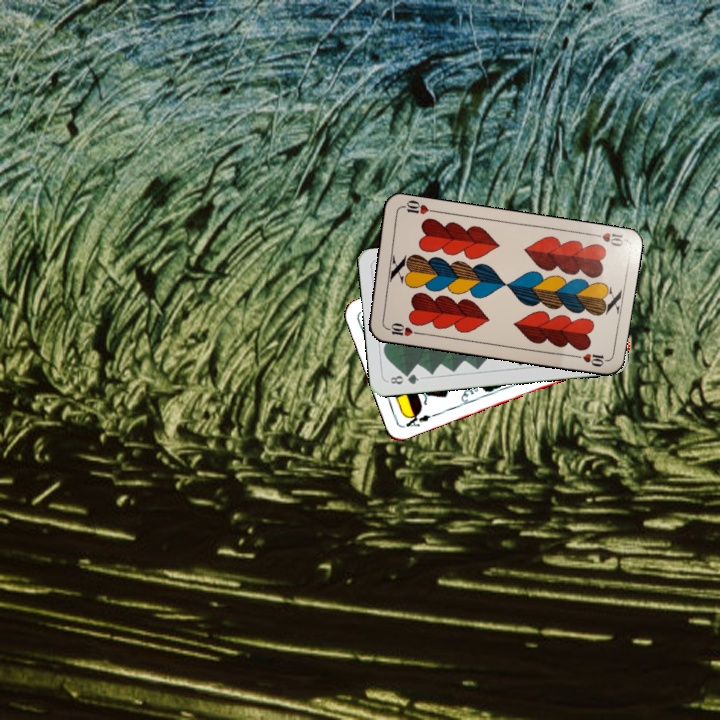EA: (400, 407, 433, 430)
G8: (386, 369, 422, 387)
H10: (586, 228, 626, 249), (381, 319, 422, 339)
